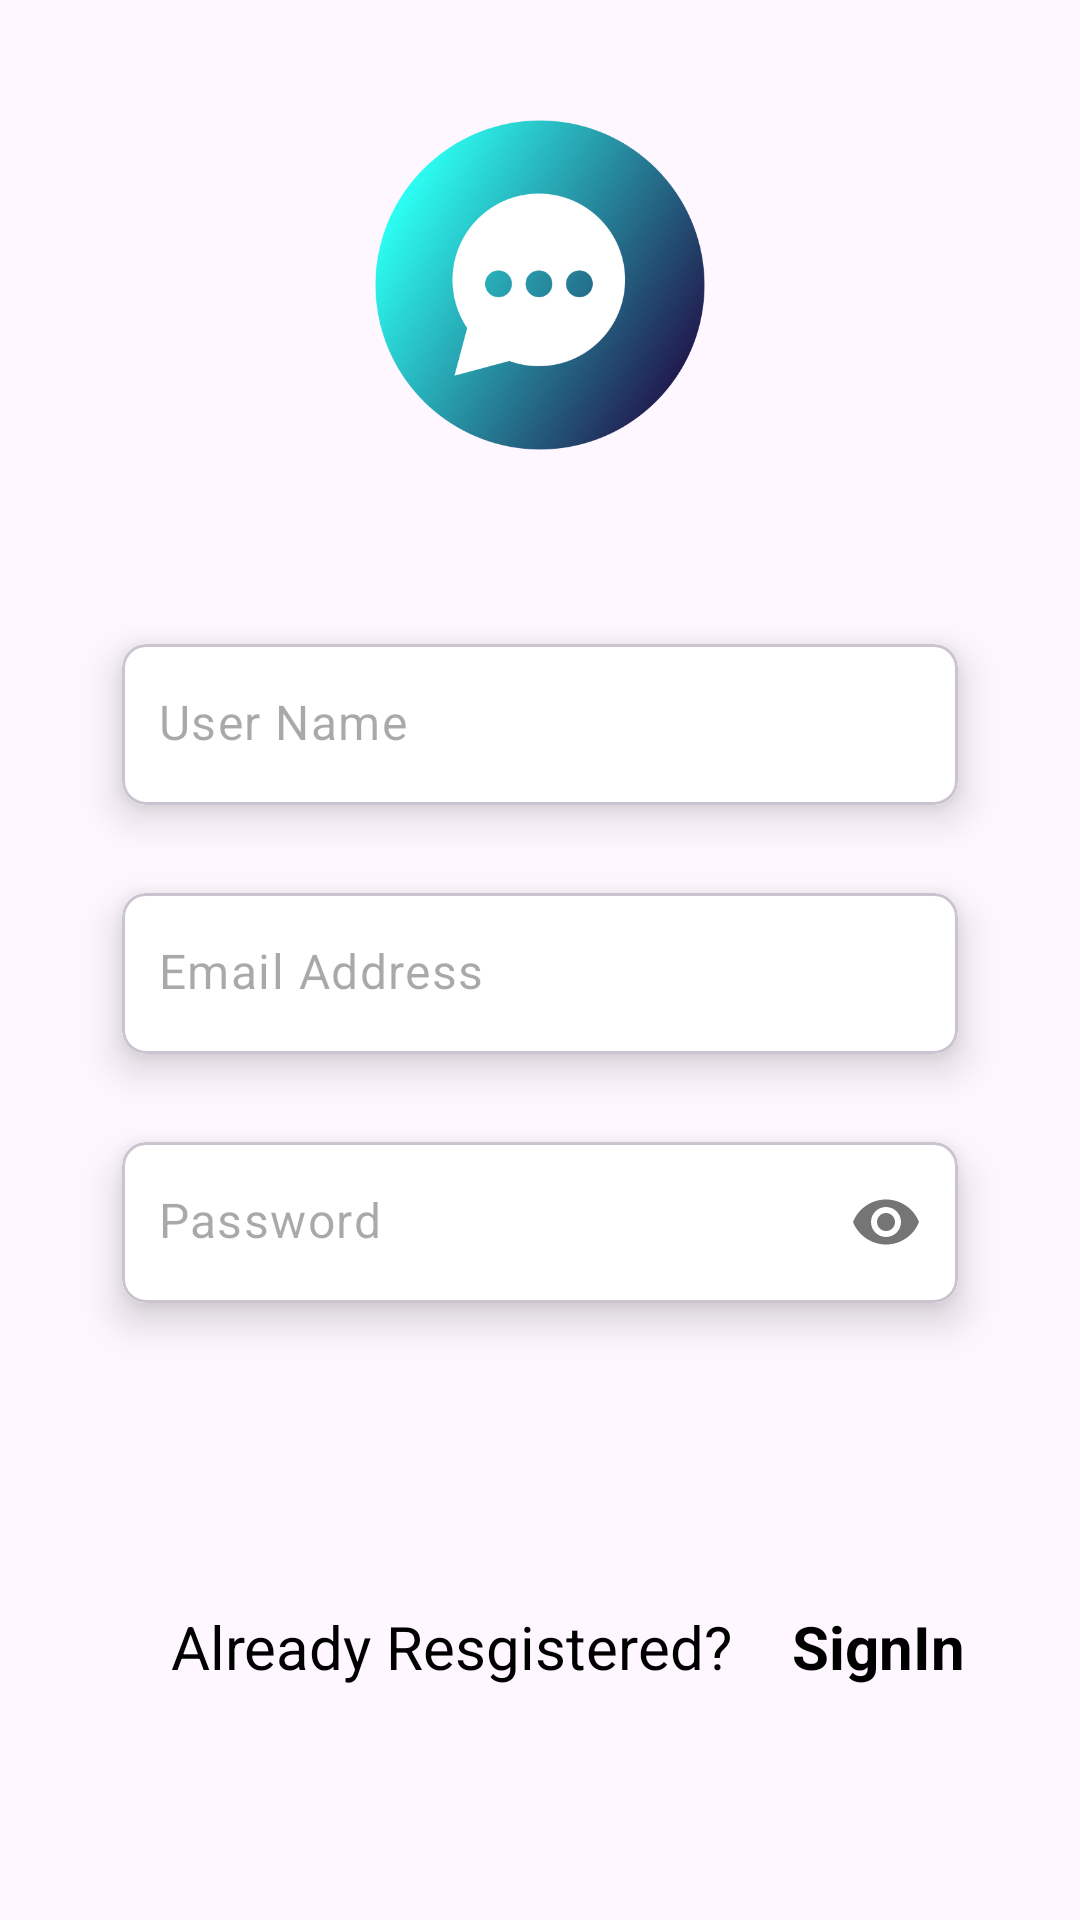

Where icons sit on this 1080 × 1920 app screen, as [x1,y1,x2,y2]:
chat: [375,120,705,450]
